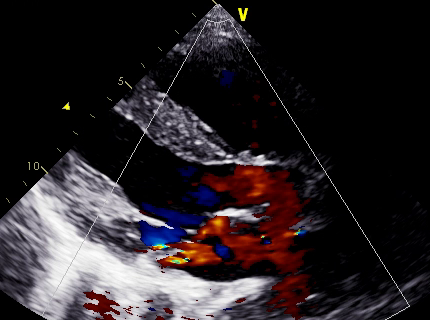MR: (177, 209, 236, 270)
